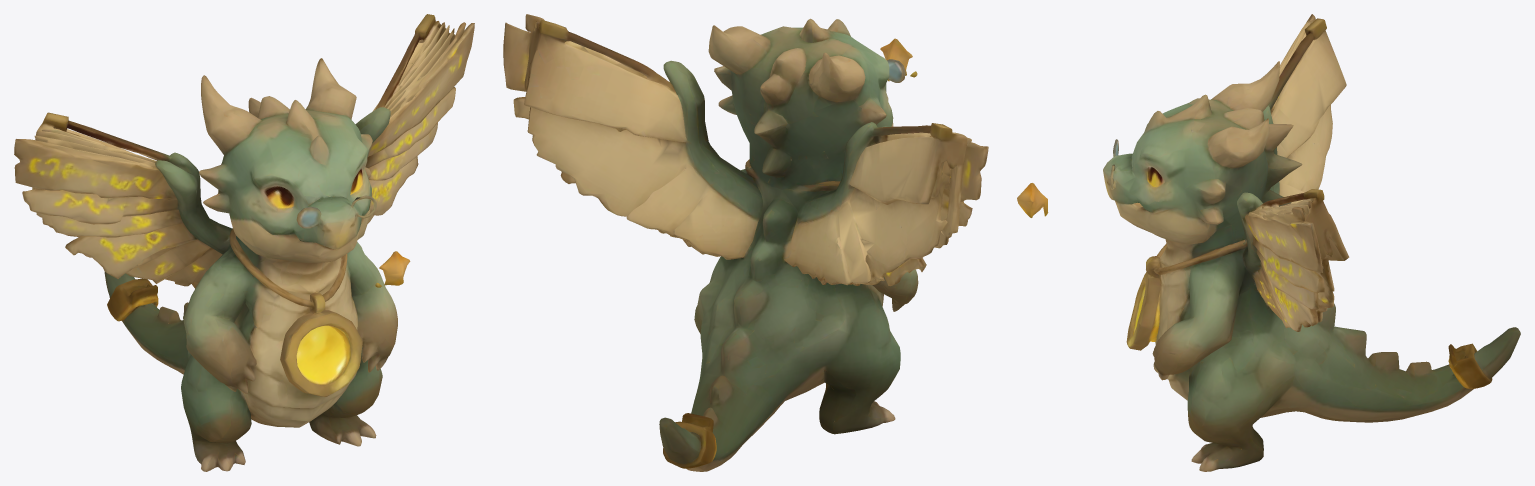
The model's file is library_dragon.glb.
3 renders of one model, left to right at view 1: azimuth 30°, elevation 25°; view 2: azimuth 150°, elevation 25°; view 3: azimuth 270°, elevation 25°, orthographic. The views are drawn at different scales.
Parts seen in each view (by area): view 1: world; view 2: world; view 3: world.
Boxes of the visible parts, x1,y1,x2,y2 form: world: (14, 14, 474, 471); world: (503, 14, 988, 471); world: (1017, 14, 1520, 471).
Size of the model in its own units: 1 by 0.7598 by 0.9924.
Materials: 1 (1 with a texture image).
